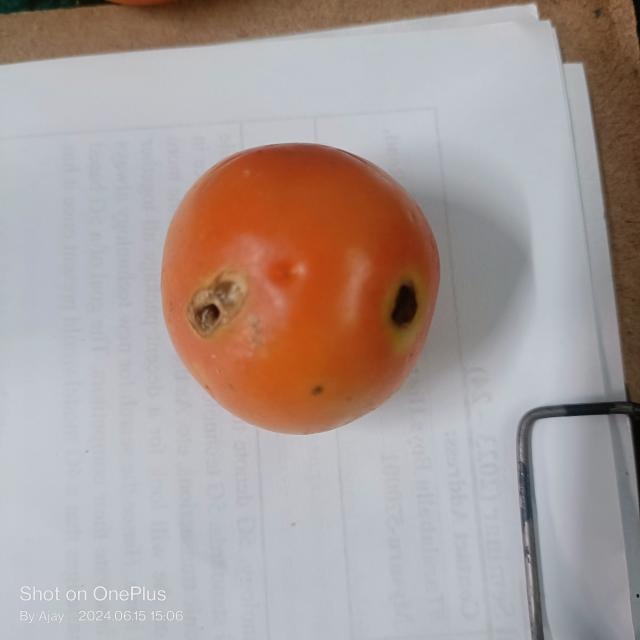fruitworm_bore: (174, 272, 246, 336), (384, 263, 426, 337)
